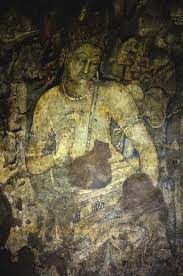Bodhisatva Padampani: (10, 5, 178, 259)
